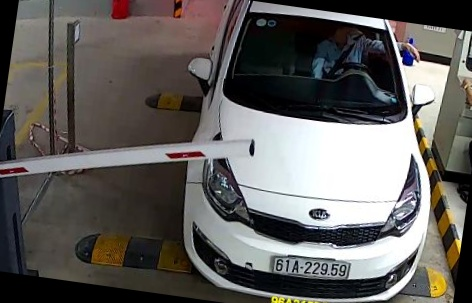plate: (269, 246, 351, 285)
